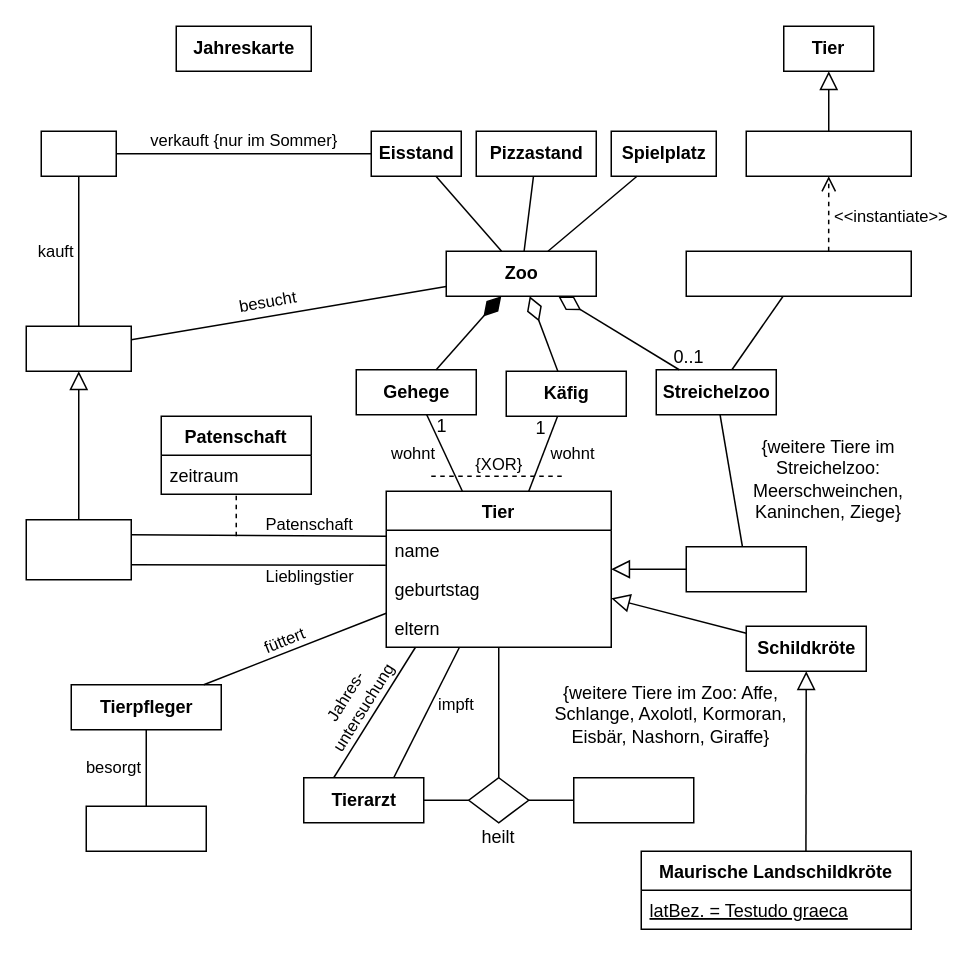
The diagram is 975 pixels wide and 960 high, and some of its shapes have lost their labels. Each missing label, with the centre of its shape:
"Besucher" belongs at (78,348).
"Eis" belongs at (78,153).
"Futter" belongs at (145,828).
"Kind" belongs at (78,549).
"Krankheit" belongs at (633,799).
"Rudi : Warzenschwein" belongs at (798,273).
"Schaf" belongs at (745,568).
"Warzenschwein" belongs at (828,153).
